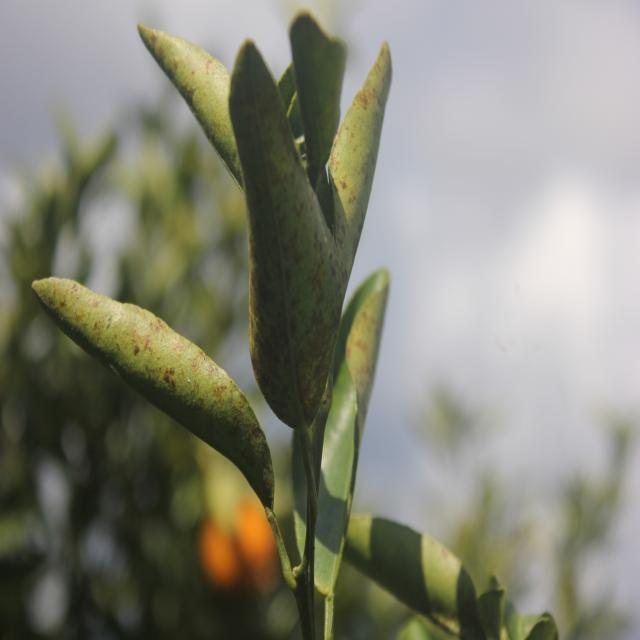melanose: (28, 245, 273, 515), (229, 50, 352, 426), (319, 47, 398, 249), (138, 24, 238, 172), (345, 244, 397, 454)
